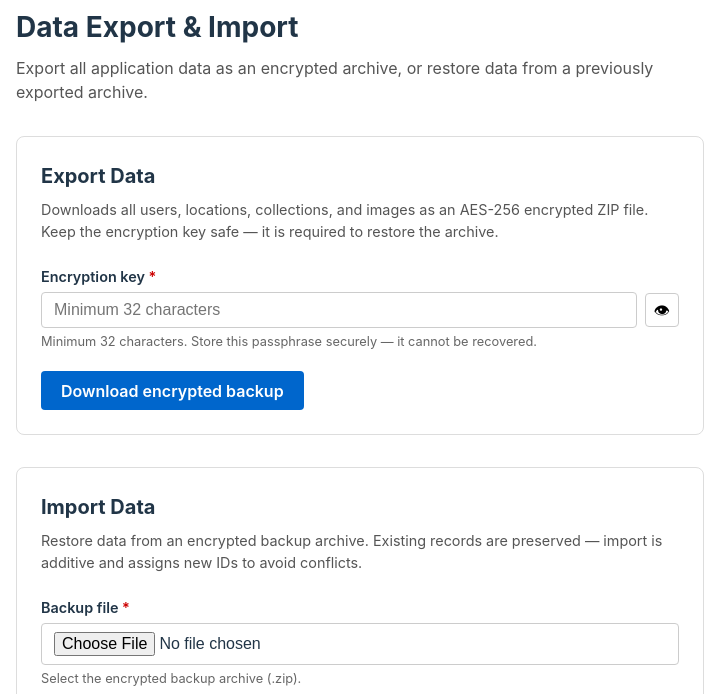
Test case: ImportExportPage › Export form API interaction › shows error message when export API returns an error
Type "exactly-32-characters-long-key!!" into the password field labelled "Encryption key *" at [339, 310], box [41,292,637,328]
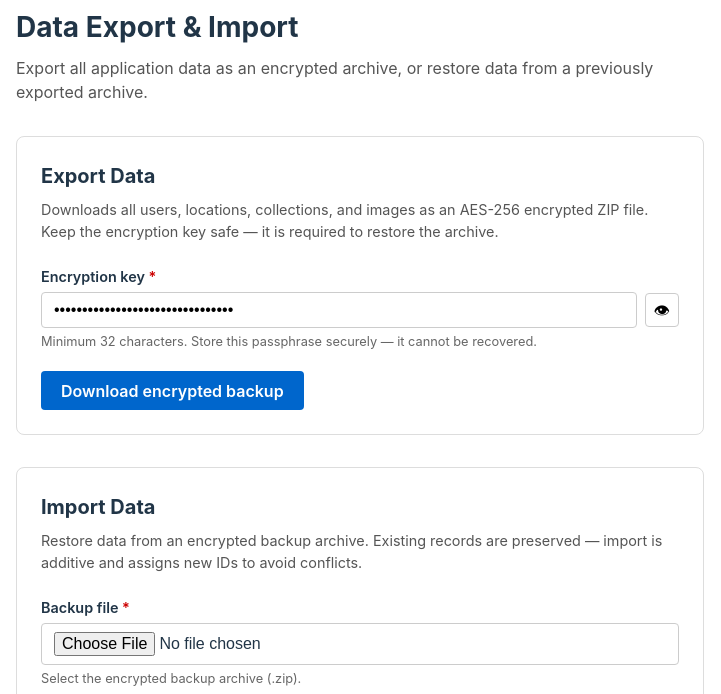
Click the button "Download encrypted backup" at [172, 391], box [41,371,304,410]
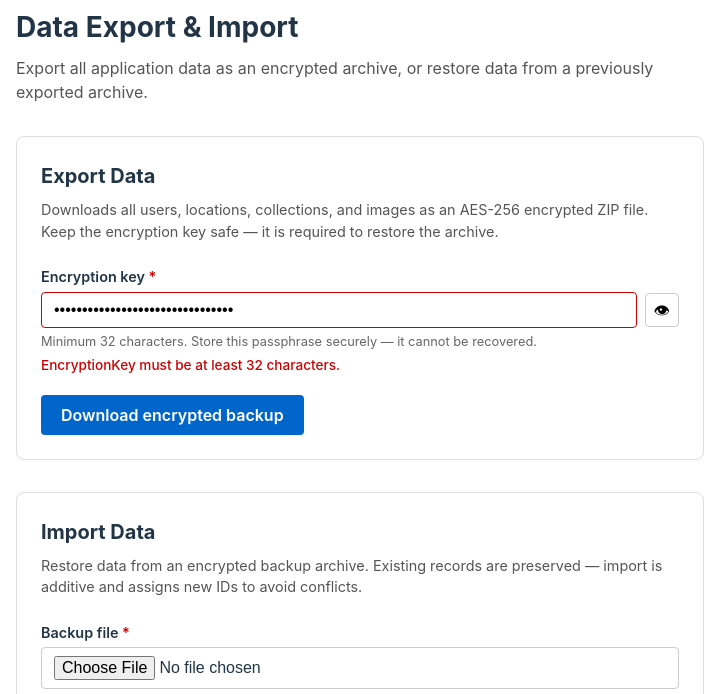
Expected: the text "EncryptionKey must be at least 32 characters." is shown, [41,357,340,373]
